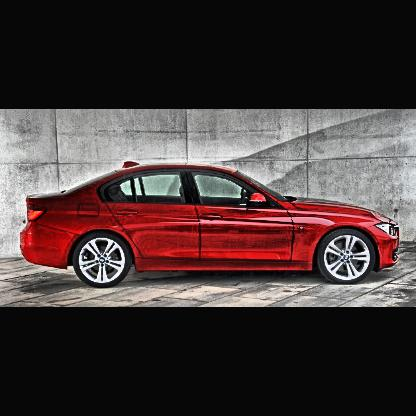BMW 3 Series Sedan 2012: (20, 160, 402, 288)
